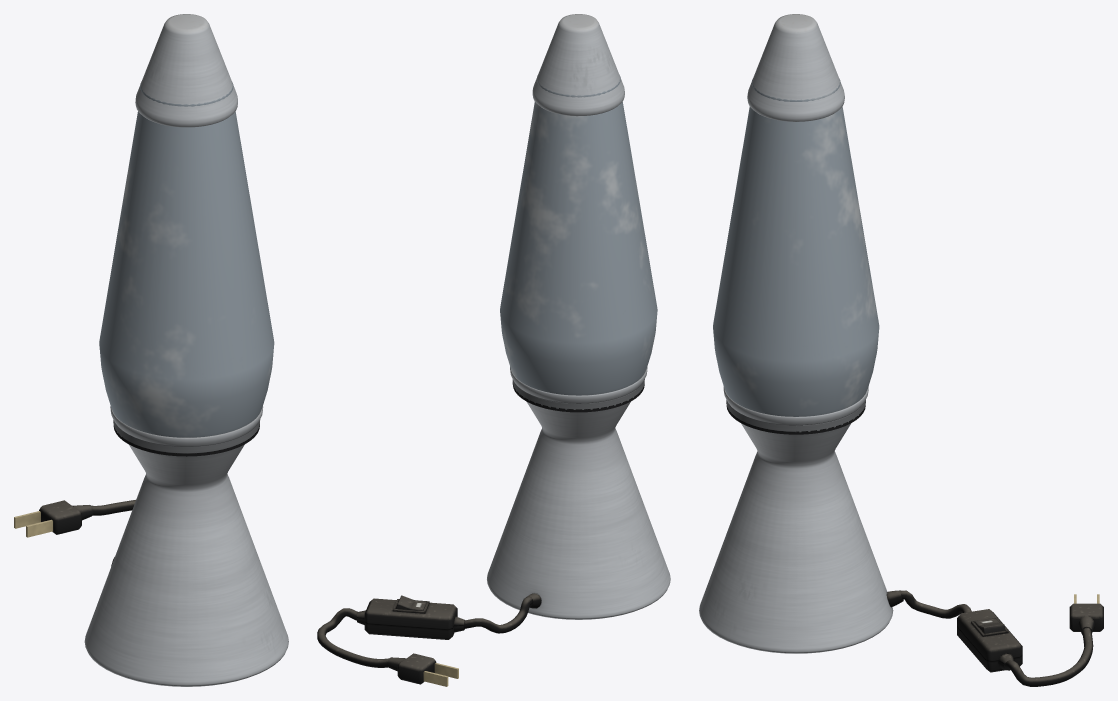
The model's file is BlobLamp.fbx.
3 views of the same model, side by side, from view 1: azimuth 30°, elevation 25°; view 2: azimuth 150°, elevation 25°; view 3: azimuth 270°, elevation 25° (orthographic). The views are drawn at different scales.
Visible parts, largest first — view 1: BlobLamp_Bottle, BlobLamp_Base, BlobLamp_Cap; view 2: BlobLamp_Bottle, BlobLamp_Base, BlobLamp_Cap; view 3: BlobLamp_Bottle, BlobLamp_Base, BlobLamp_Cap.
Boxes of the visible parts, x1,y1,x2,y2 form: BlobLamp_Bottle: (99, 82, 274, 437); BlobLamp_Base: (14, 406, 288, 686); BlobLamp_Cap: (135, 14, 237, 127); BlobLamp_Bottle: (500, 75, 657, 395); BlobLamp_Base: (317, 367, 670, 686); BlobLamp_Cap: (532, 14, 624, 116); BlobLamp_Bottle: (713, 79, 879, 416); BlobLamp_Base: (699, 387, 1103, 686); BlobLamp_Cap: (747, 14, 844, 121).
Size of the model in its own units: 0.6014 by 1.45 by 0.8985.
2 materials, 2 textured.
